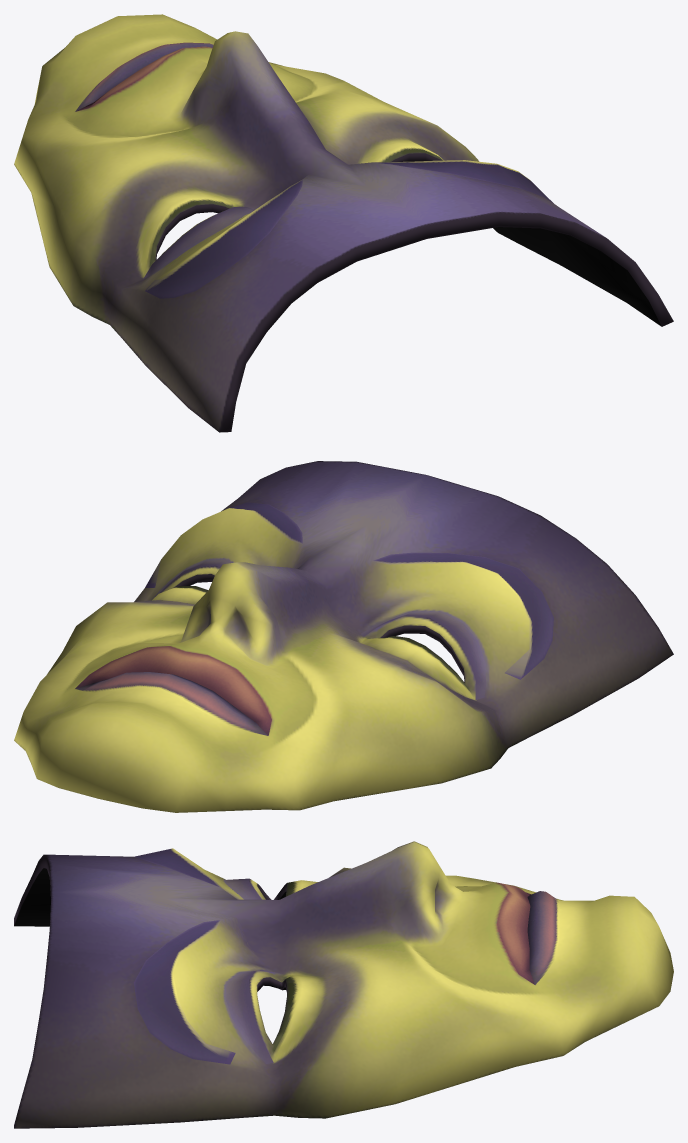
File: anim1_000207.obj
The picture shows the model from 3 angles, top to bottom: view 1: azimuth 30°, elevation 25°; view 2: azimuth 150°, elevation 25°; view 3: azimuth 270°, elevation 25°; orthographic projection. The views are drawn at different scales.
Parts seen in each view (by area): view 1: 151out; view 2: 151out; view 3: 151out.
Part boxes in pixels (left/top/right/bottom): 151out: left=14, top=14, right=673, bottom=432; 151out: left=14, top=461, right=673, bottom=812; 151out: left=14, top=841, right=673, bottom=1128.
Size of the model in its own units: 4.16 by 1.69 by 5.52.
